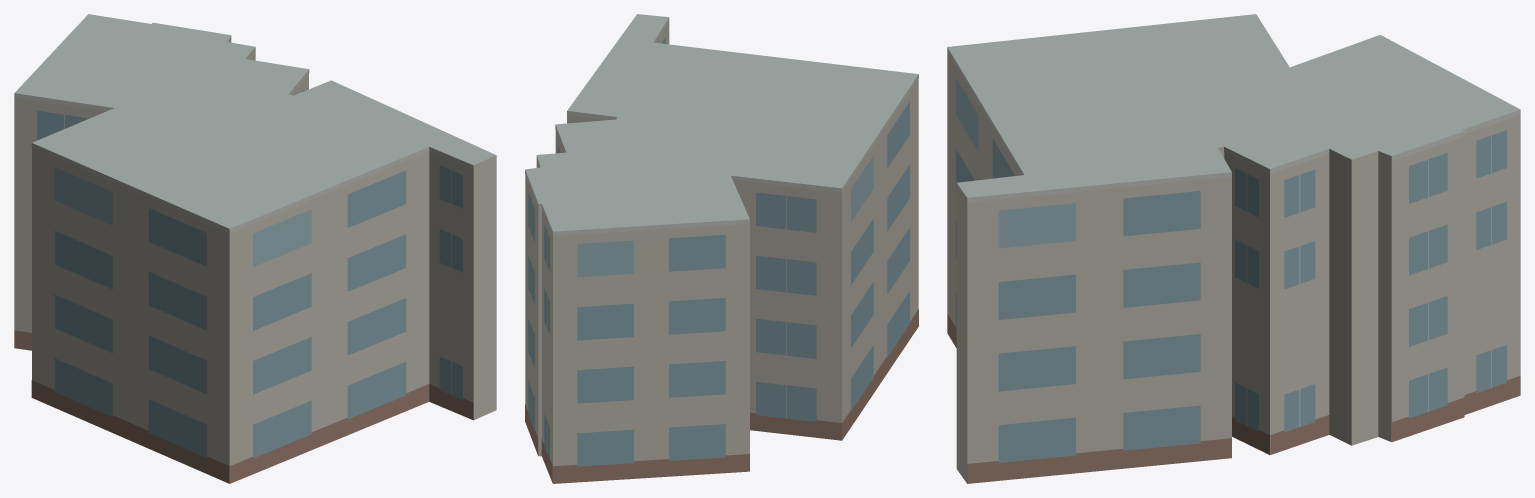
The model's file is survey-upis-32563900.glb.
The picture shows the model from 3 angles, left to right: view 1: azimuth 30°, elevation 25°; view 2: azimuth 150°, elevation 25°; view 3: azimuth 270°, elevation 25°; orthographic projection. The views are drawn at different scales.
Visible parts, largest first — view 1: survey-upis-32563900.tmp; view 2: survey-upis-32563900.tmp; view 3: survey-upis-32563900.tmp.
Boxes of the visible parts, left/top/right/bottom form: survey-upis-32563900.tmp: left=14, top=14, right=496, bottom=483; survey-upis-32563900.tmp: left=525, top=14, right=918, bottom=483; survey-upis-32563900.tmp: left=947, top=14, right=1520, bottom=483.
Size of the model in its own units: 19.45 by 14.1 by 25.62.
